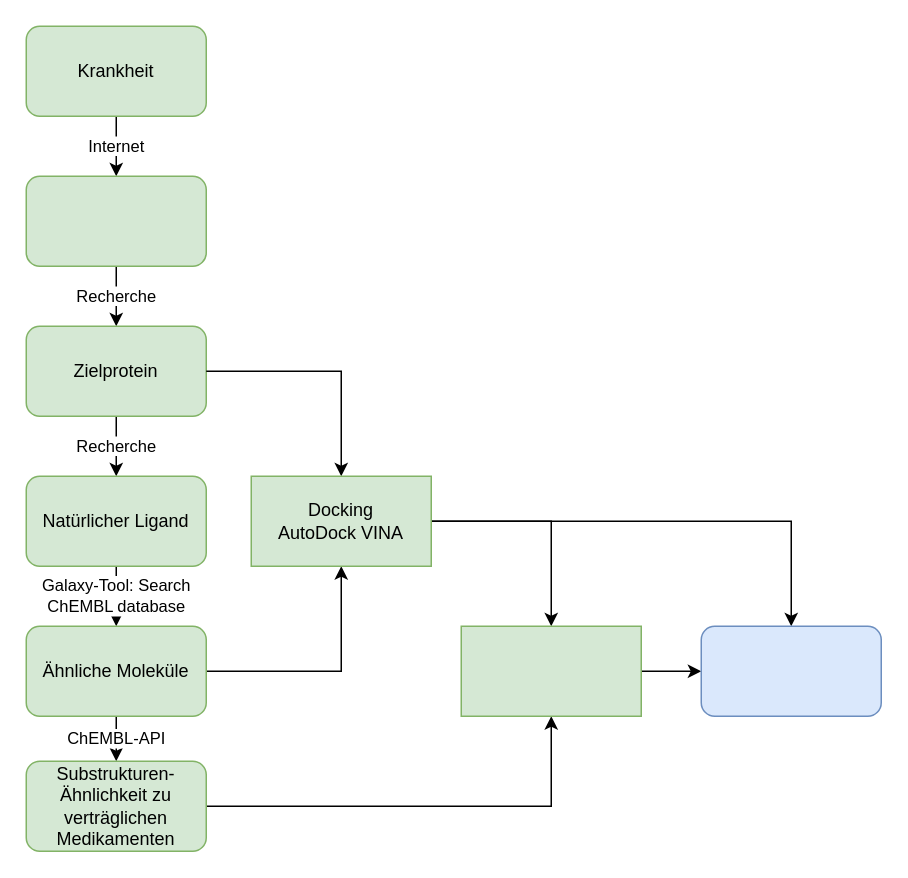
This 908x878 diagram has some shape labels left out. The centre of each missing label's shape, as x and y in pixels:
Abgleich: the point at 550,670
Ergebnis: the point at 790,670
Erreger: the point at 115,220
